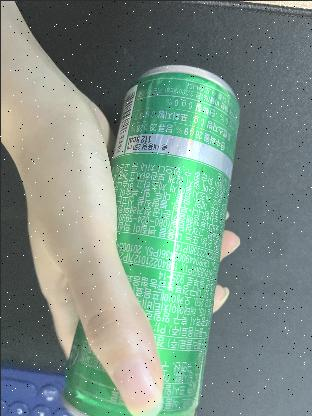Can: (61, 62, 239, 416)
